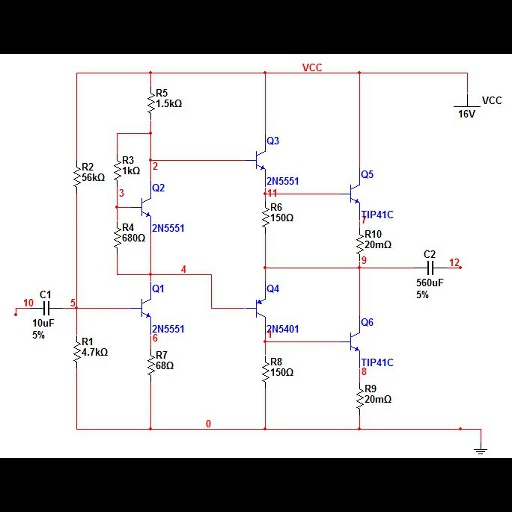capacitor: (38, 298, 55, 317), (423, 259, 438, 276)
gnd: (469, 447, 491, 455)
npn: (134, 193, 158, 219), (248, 147, 272, 171), (344, 328, 364, 355), (132, 295, 153, 320), (346, 182, 364, 206)
pnp: (248, 295, 271, 320)
secondresistance: (70, 334, 81, 369), (71, 161, 82, 194), (352, 383, 364, 413), (146, 87, 156, 121), (111, 156, 122, 186), (145, 350, 155, 381), (260, 202, 270, 233), (259, 358, 269, 389), (353, 228, 364, 256), (112, 222, 121, 255)
